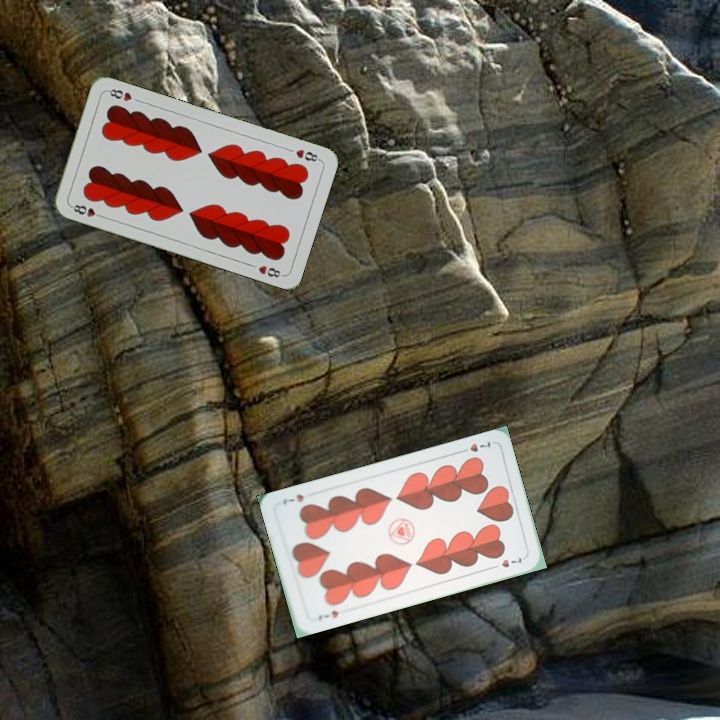H7: (455, 437, 493, 456), (314, 606, 341, 623)
H8: (67, 200, 106, 220), (291, 145, 323, 164)
